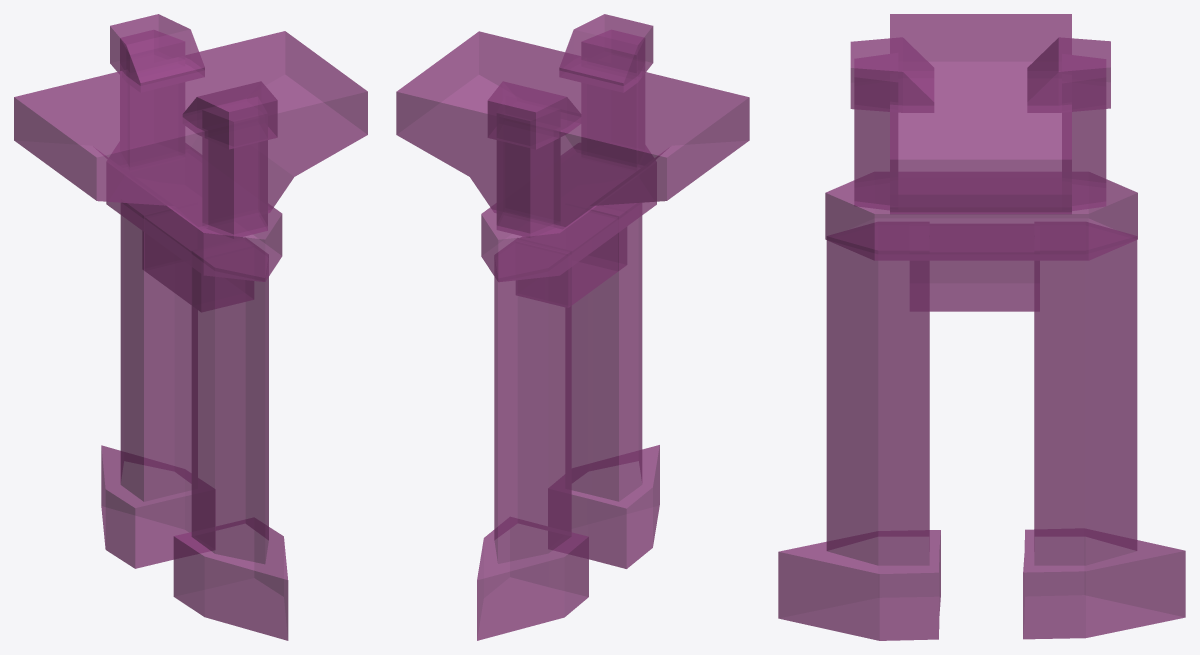
The model's file is SM_Bld_Bridge_Base_01_Damaged_01_Collision.fbx.
The picture shows the model from 3 angles, left to right: view 1: azimuth 30°, elevation 25°; view 2: azimuth 150°, elevation 25°; view 3: azimuth 270°, elevation 25°; orthographic projection. The views are drawn at different scales.
Visible parts, largest first — view 1: SM_Bld_Bridge_Base_01_Damaged_01_Collision; view 2: SM_Bld_Bridge_Base_01_Damaged_01_Collision; view 3: SM_Bld_Bridge_Base_01_Damaged_01_Collision.
Part boxes in pixels (<box>): SM_Bld_Bridge_Base_01_Damaged_01_Collision: <box>14,14,367,640</box>; SM_Bld_Bridge_Base_01_Damaged_01_Collision: <box>396,14,749,640</box>; SM_Bld_Bridge_Base_01_Damaged_01_Collision: <box>778,14,1185,640</box>.
Size of the model in its own units: 1039 by 1871 by 1228.
